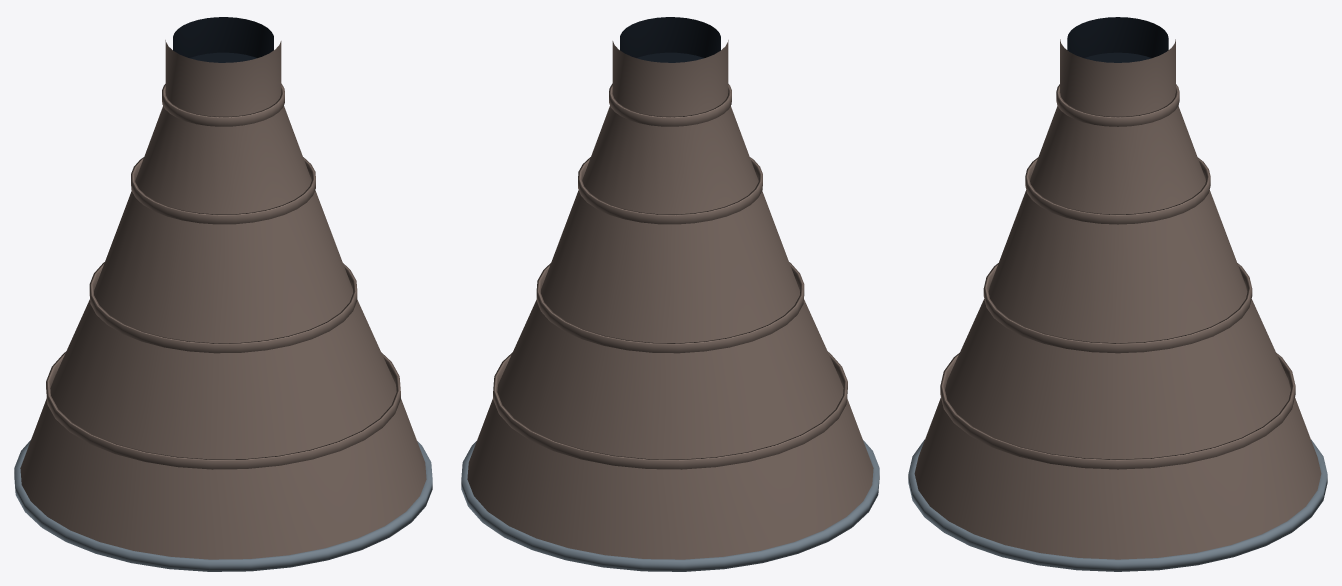
Rendered from mars_descent_stage.landing_engines_01.mle_01.glb.
The picture shows the model from 3 angles, left to right: view 1: azimuth 30°, elevation 25°; view 2: azimuth 150°, elevation 25°; view 3: azimuth 270°, elevation 25°; orthographic projection.
Parts seen in each view (by area): view 1: mars_descent_stage.landing_engines_01.mle_01.bell.mesh_Heat-, mars_descent_stage.landing_engines_01.mle_01.bell.mesh_Machi, mars_descent_stage.landing_engines_01.mle_01.bell.mesh_Shado; view 2: mars_descent_stage.landing_engines_01.mle_01.bell.mesh_Heat-, mars_descent_stage.landing_engines_01.mle_01.bell.mesh_Machi, mars_descent_stage.landing_engines_01.mle_01.bell.mesh_Shado; view 3: mars_descent_stage.landing_engines_01.mle_01.bell.mesh_Heat-, mars_descent_stage.landing_engines_01.mle_01.bell.mesh_Machi, mars_descent_stage.landing_engines_01.mle_01.bell.mesh_Shado.
Part boxes in pixels (<box>): mars_descent_stage.landing_engines_01.mle_01.bell.mesh_Heat-: <box>20,40,426,559</box>; mars_descent_stage.landing_engines_01.mle_01.bell.mesh_Machi: <box>14,440,432,571</box>; mars_descent_stage.landing_engines_01.mle_01.bell.mesh_Shado: <box>173,17,273,62</box>; mars_descent_stage.landing_engines_01.mle_01.bell.mesh_Heat-: <box>467,40,873,559</box>; mars_descent_stage.landing_engines_01.mle_01.bell.mesh_Machi: <box>461,440,879,571</box>; mars_descent_stage.landing_engines_01.mle_01.bell.mesh_Shado: <box>620,17,720,62</box>; mars_descent_stage.landing_engines_01.mle_01.bell.mesh_Heat-: <box>914,39,1321,559</box>; mars_descent_stage.landing_engines_01.mle_01.bell.mesh_Machi: <box>908,439,1327,571</box>; mars_descent_stage.landing_engines_01.mle_01.bell.mesh_Shado: <box>1067,17,1168,62</box>.
Bounding box in the file's own units: 0.1963 × 0.23 × 0.1963.
